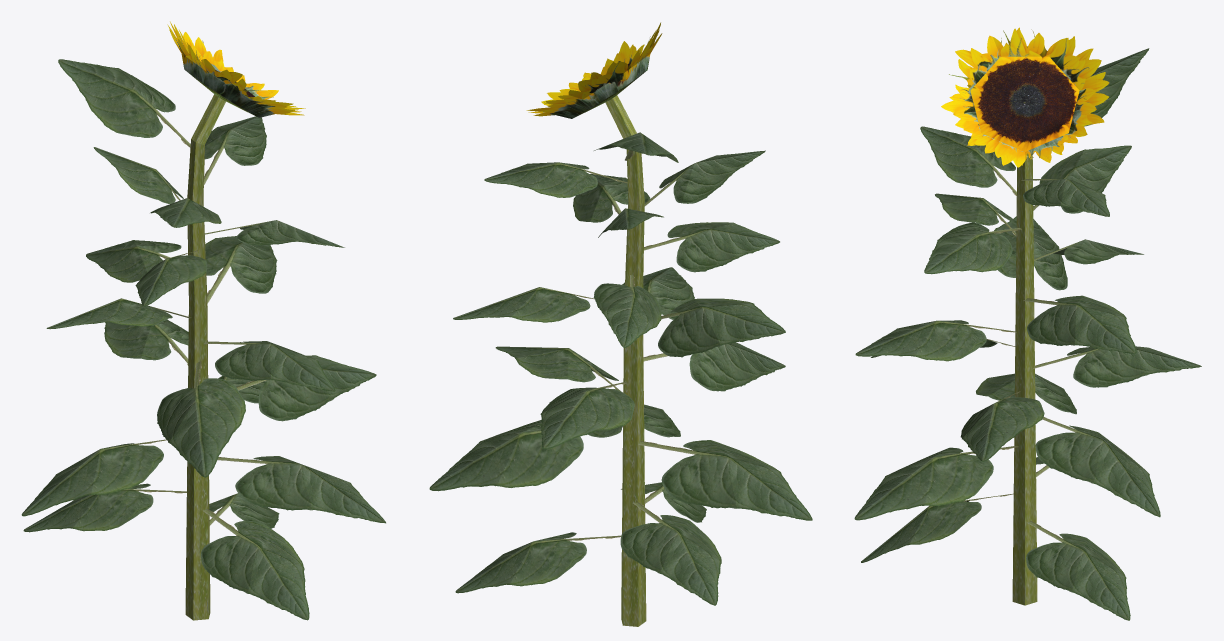
Rendered from sunflowerlow.obj.
3 views of the same model, side by side, from view 1: azimuth 30°, elevation 25°; view 2: azimuth 150°, elevation 25°; view 3: azimuth 270°, elevation 25° (orthographic). The views are drawn at different scales.
Parts seen in each view (by area): view 1: meshsunflowerlow; view 2: meshsunflowerlow; view 3: meshsunflowerlow.
Boxes of the visible parts, <box> form: meshsunflowerlow: <box>21,21,385,620</box>; meshsunflowerlow: <box>429,22,812,626</box>; meshsunflowerlow: <box>854,27,1201,620</box>.
Bounding box in the file's own units: 2.1 × 3.41 × 1.94.
2 materials, 2 textured.
